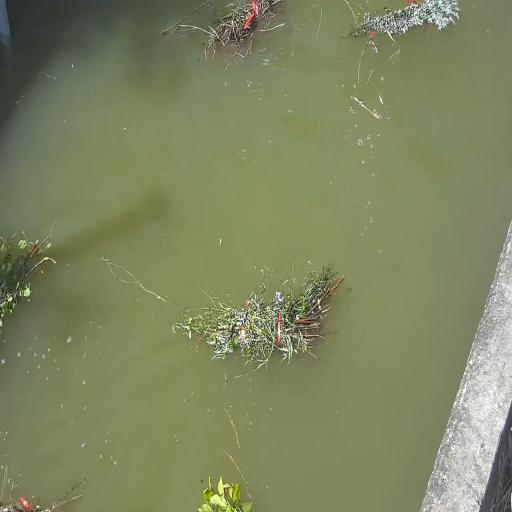twig: (179, 268, 345, 364), (159, 0, 294, 64), (0, 226, 53, 335), (348, 0, 461, 45), (0, 455, 87, 512), (189, 466, 270, 512)
